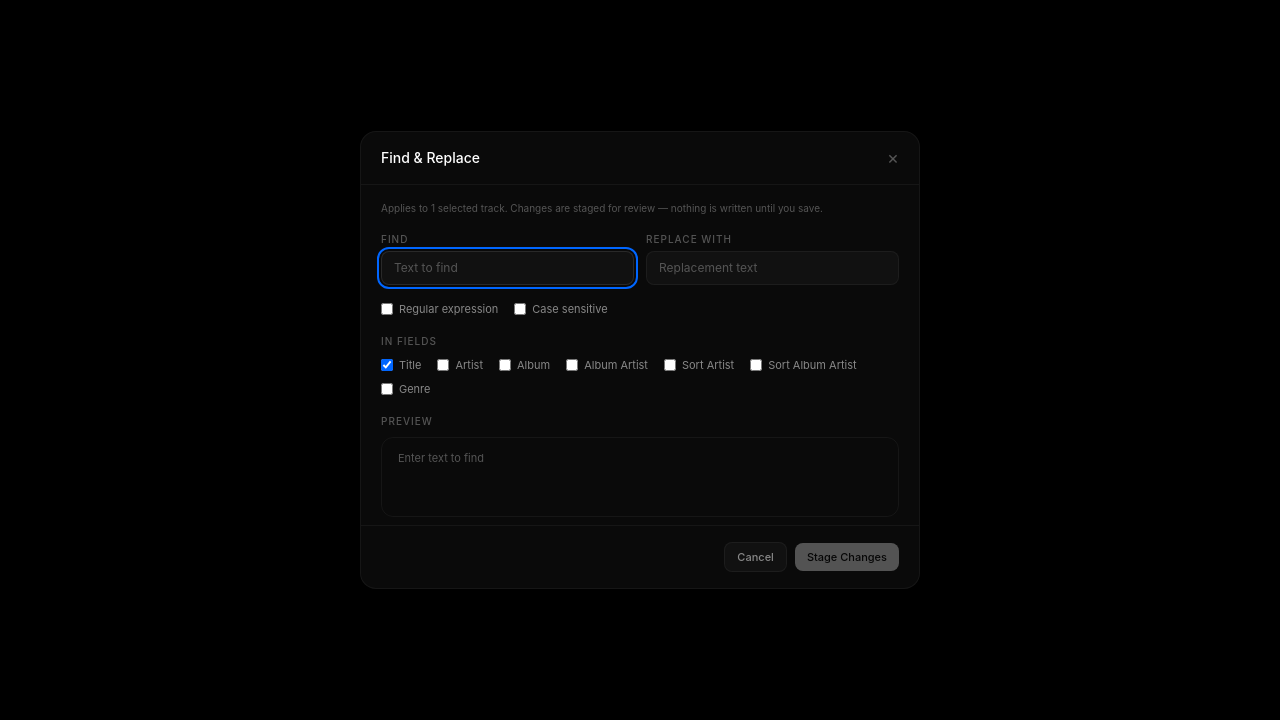
it: FindReplaceModal › includes additional fields when toggled
Step 1. Type " (Live)" into the field with test id "find-input" → [508, 268], box 381,251 -> 634,285
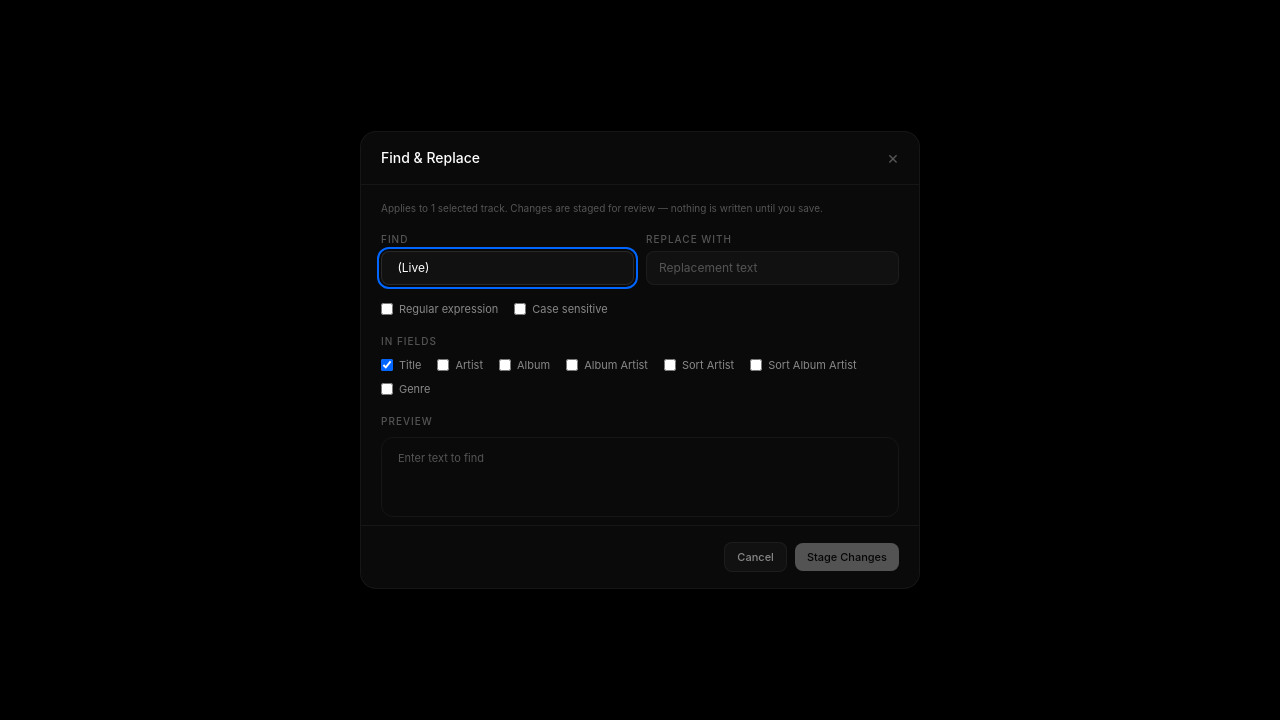
Step 2. Click the checkbox with test id "field-toggle-album" → [505, 365], box 499,359 -> 511,371
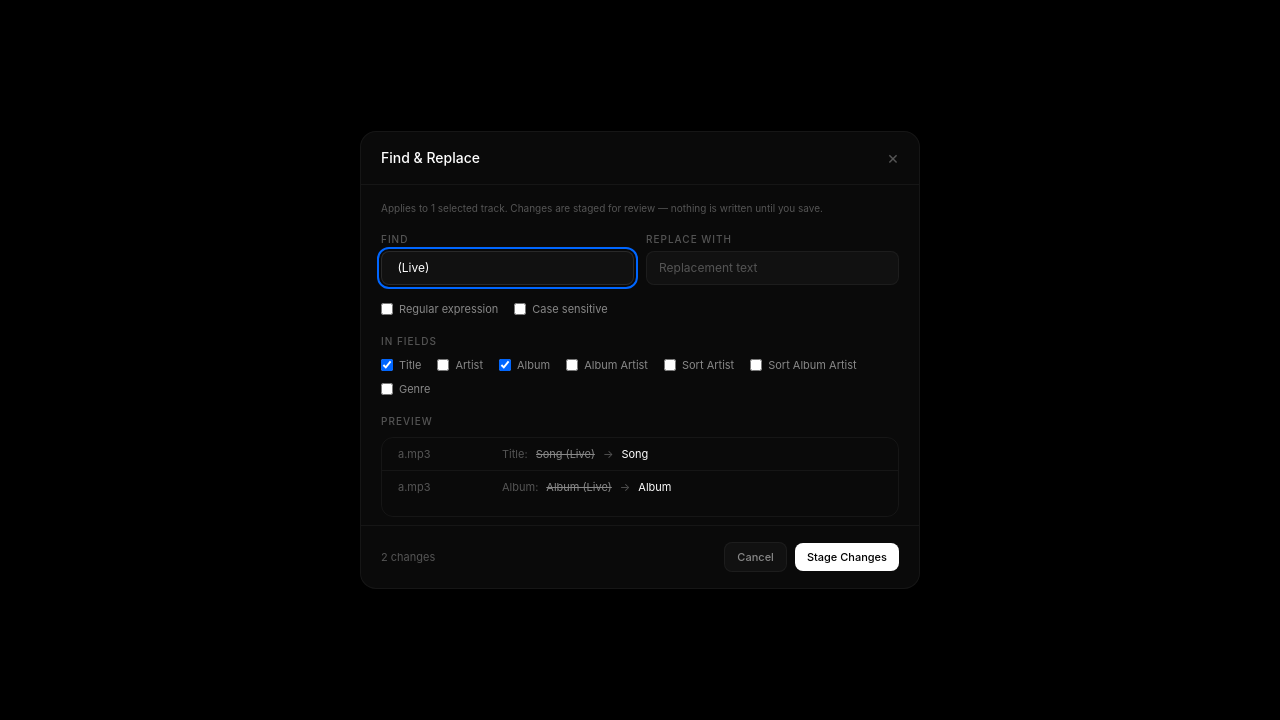
Now the text "2 changes" is shown, box 381,548 -> 435,565
